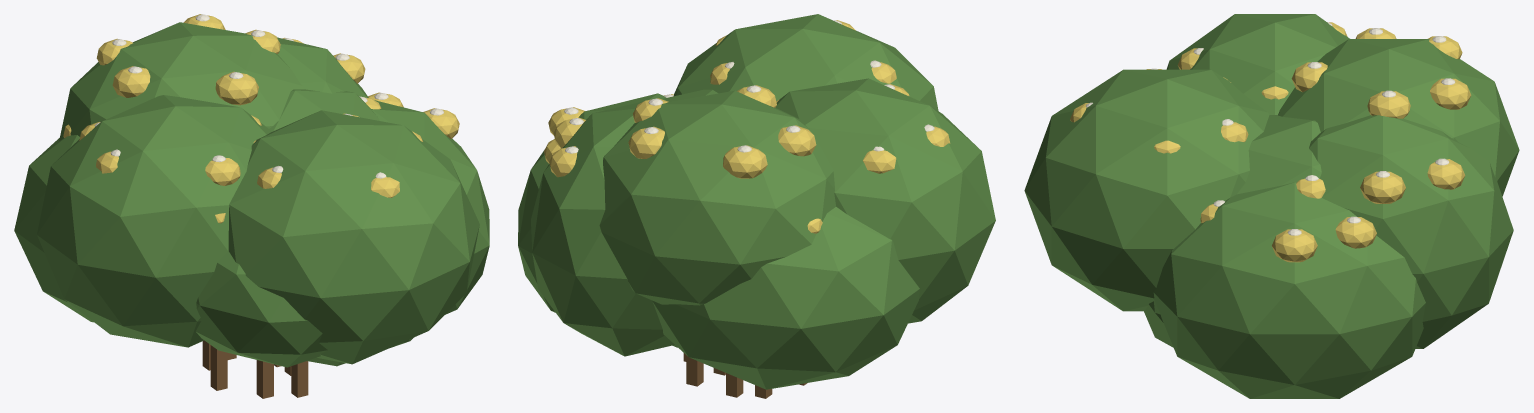
The model's file is flowers-2.glb.
3 views of the same model, side by side, from view 1: azimuth 30°, elevation 25°; view 2: azimuth 150°, elevation 25°; view 3: azimuth 270°, elevation 25° (orthographic). The views are drawn at different scales.
Parts seen in each view (by area): view 1: flowers-2; view 2: flowers-2; view 3: flowers-2.
Part boxes in pixels (box(x1,y1,x2,y2)): flowers-2: box(14, 14, 489, 398); flowers-2: box(518, 14, 995, 398); flowers-2: box(1024, 14, 1519, 398).
Size of the model in its own units: 2.7 by 1.89 by 2.79.
